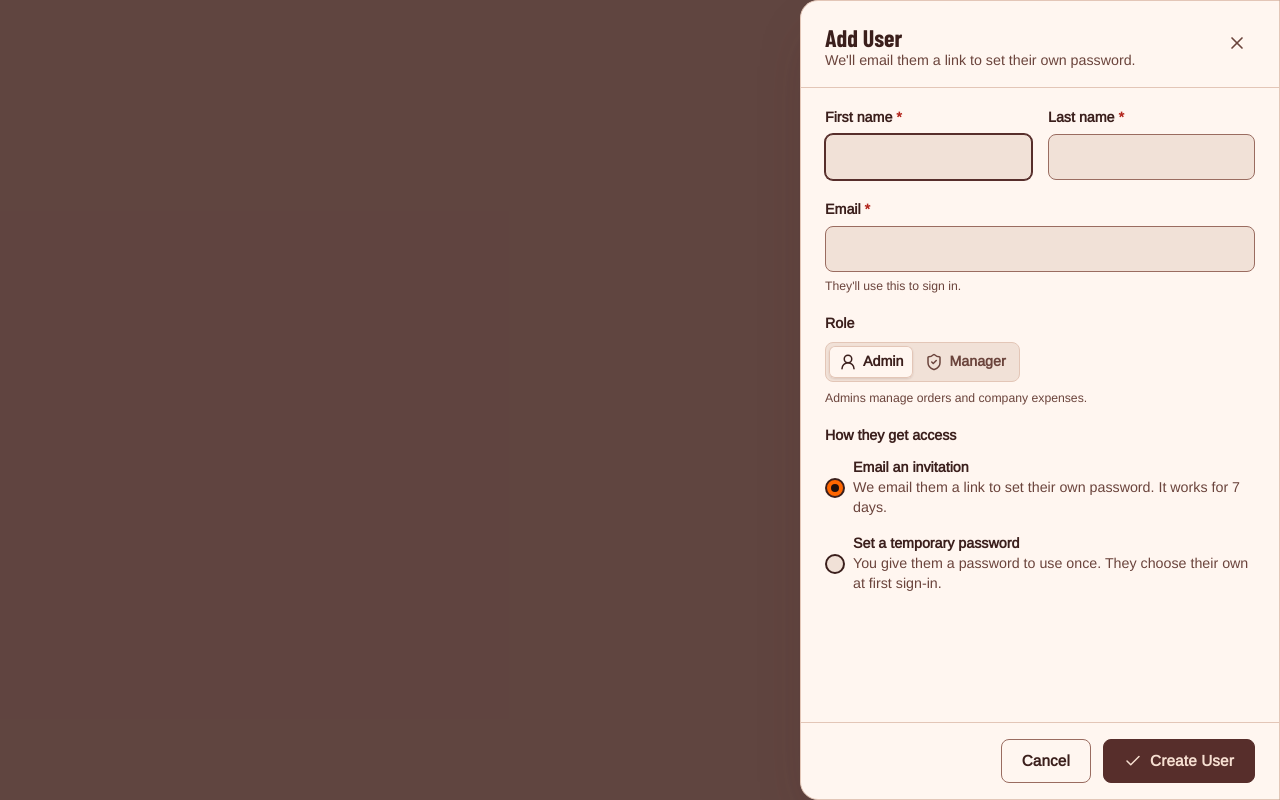
Test case: U2 the panel › preselects Admin (D-15) and lets the role hint follow the selection
The image size is (1280, 800).
Expected: the radio button labelled "Admin" is checked, [829,346,913,378]
Expected: the text "Admins manage orders and company expenses." is shown, [825,390,1087,406]
Click the radio button labelled "Manager".
click(966, 362)  # box [915,346,1016,378]
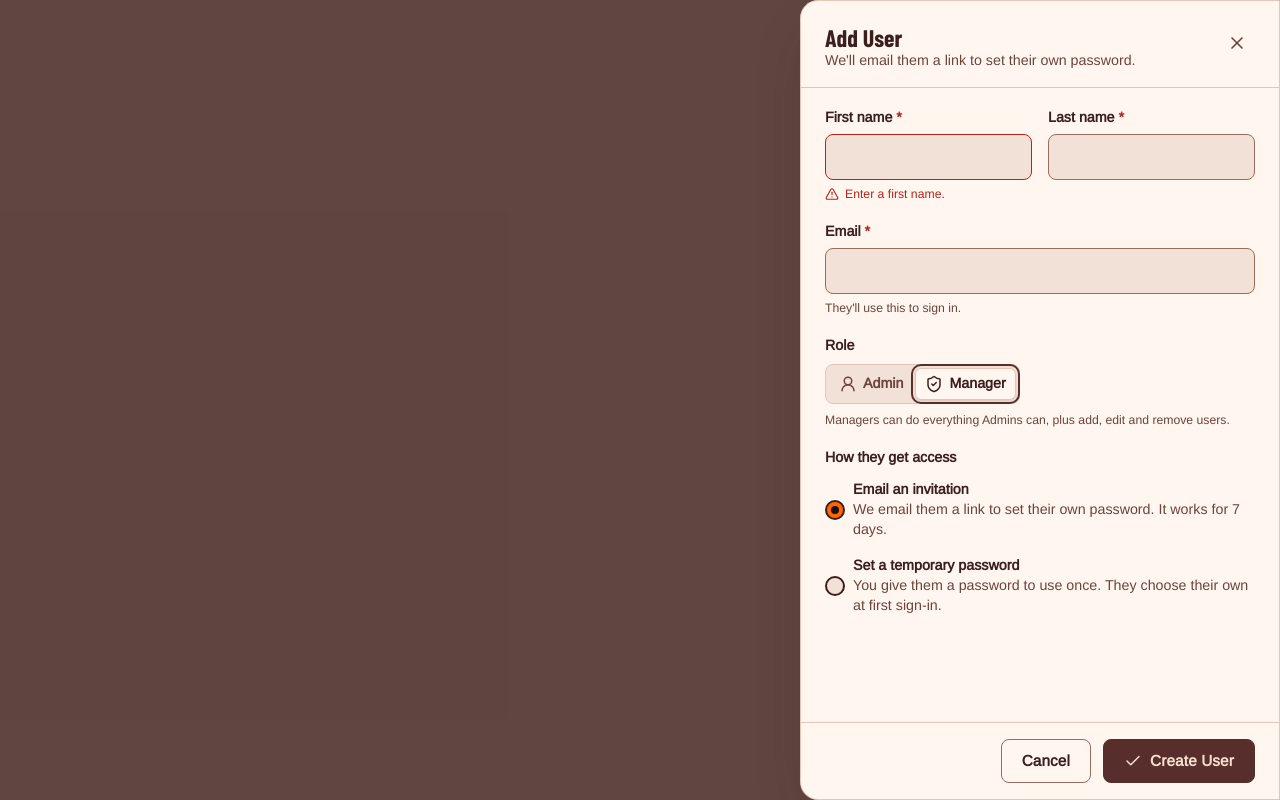
Now the radio button labelled "Manager" is checked, box [915,368,1016,400]
Now the text "Managers can do everything Admins can, plus add, edit and remove users." is shown, box [825,412,1230,428]
Now the text "Admins manage orders and company expenses." is gone
